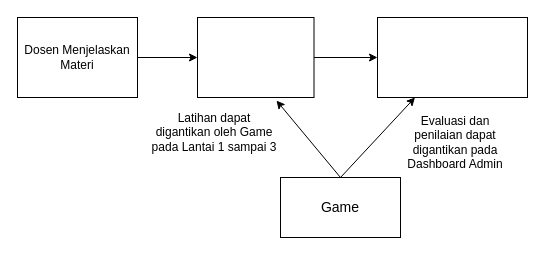
Image size: 545x255. Some labels were removed from this diagram. Here are the shapes that lost their labels. From the top down, the centre of each, then its label:
the point at 255,57: Mahasiswa Melakukan Latihan
the point at 452,57: Dosen Melakukan Evalaluasi dan Penilaian
